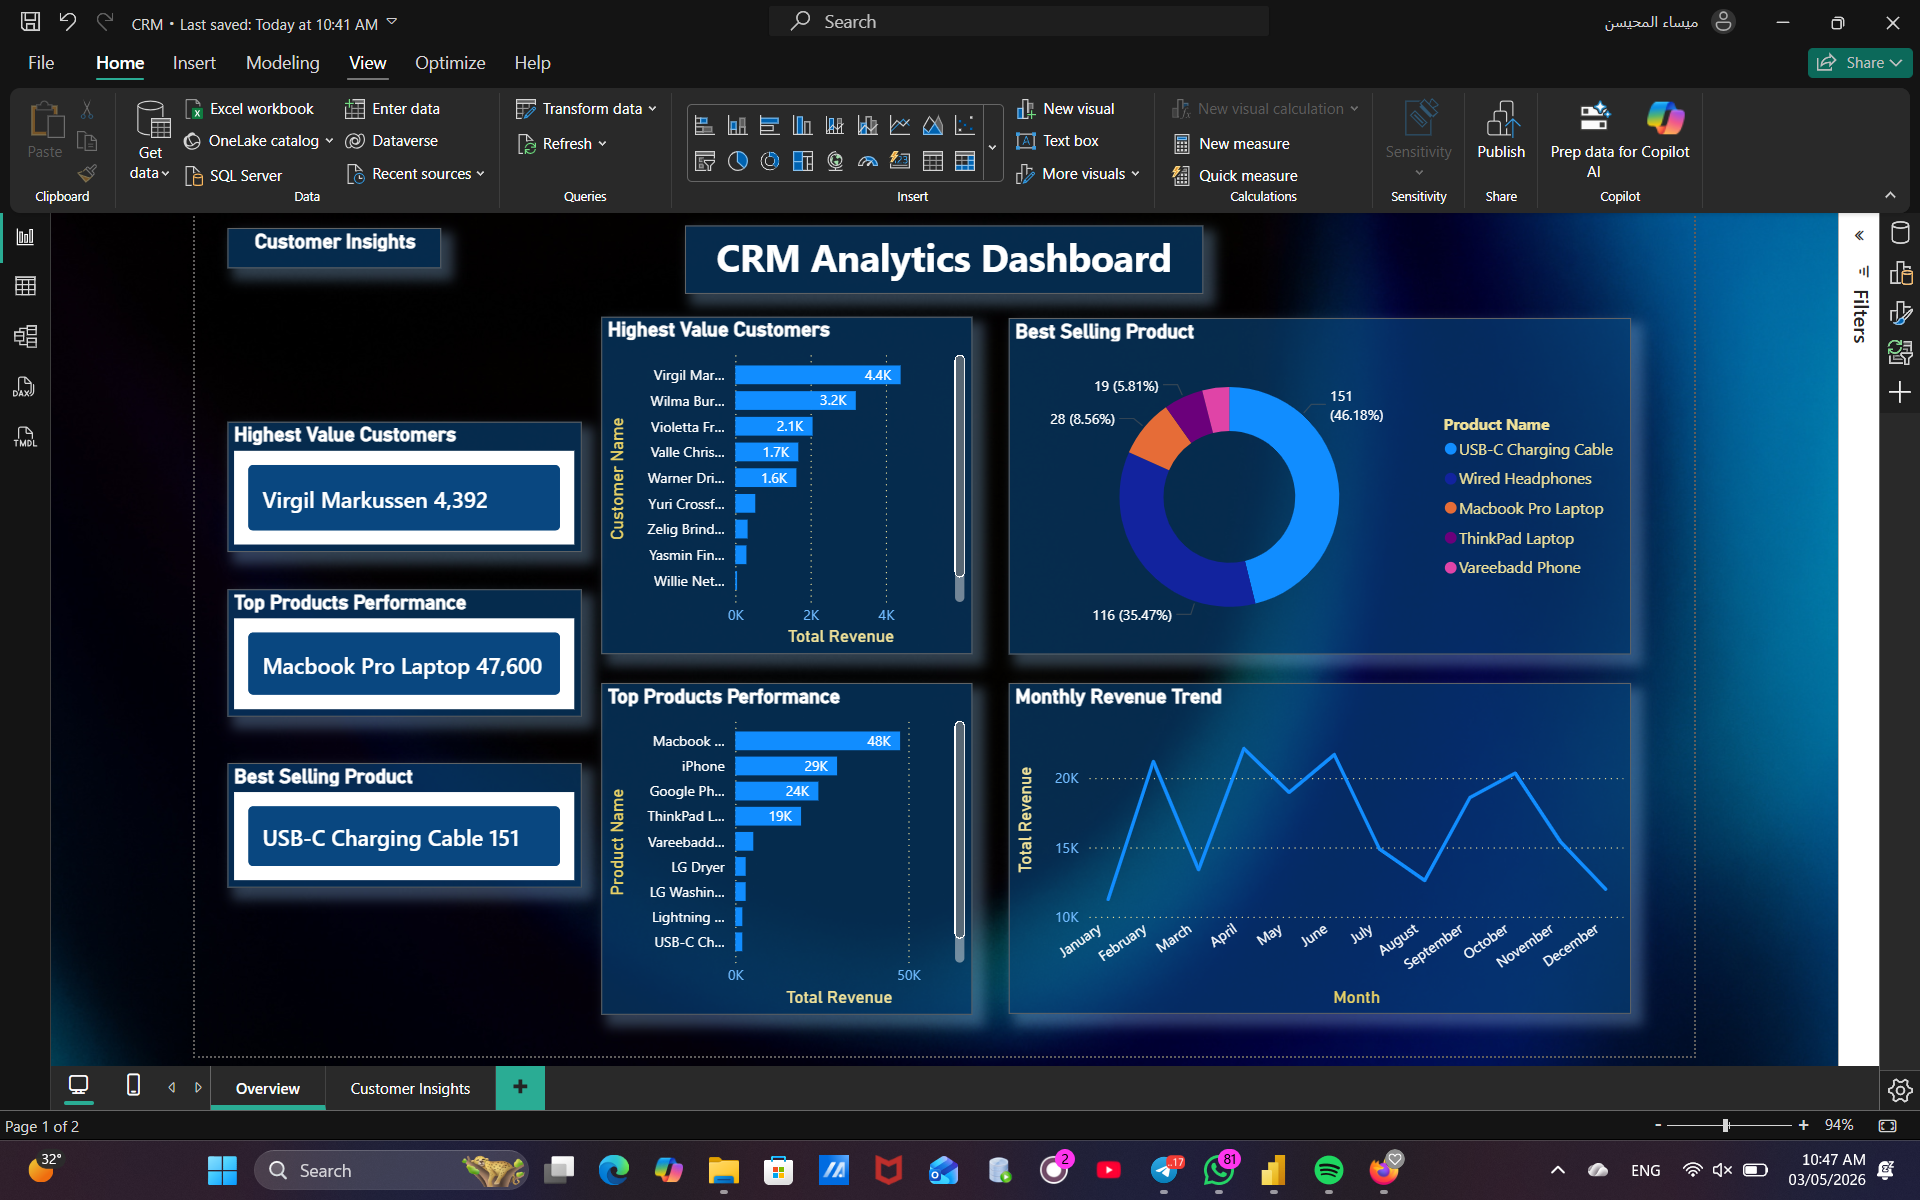

The page's visual inventory and layout, read from the dashboard file:
{"tool":"powerbi","page":{"name":"Overview","canvas":[1280,720],"ordinal":0},"visuals":[{"type":"clusteredBarChart","title":"Highest Value Customers","fields":{"Category":["Customer.FullName"],"Y":["Deal.Total Revenue"]},"box":[346.4,88.7,316.4,287.6],"z":0},{"type":"clusteredBarChart","title":"Top Products Performance","fields":{"Category":["Product.Pname"],"Y":["Deal.Total Revenue"]},"box":[346.4,401.5,316.4,282.8],"z":1000},{"type":"donutChart","title":"Best Selling Product","fields":{"Category":["Product.Pname"],"Y":["Deal.Total Deals"]},"box":[694.6,89.6,531.4,287],"z":2000},{"type":"lineChart","title":"Monthly Revenue Trend","fields":{"Category":["Deal.DealDate.Variation.Date Hierarchy.Month"],"Y":["Deal.Total Revenue"]},"box":[694.6,401.2,531.4,282.8],"z":3000},{"type":"actionButton","title":"Customer Insights","box":[27.7,12.8,182.5,34.1],"z":4000},{"type":"textbox","box":[418.3,10.7,442.8,58.7],"z":6000},{"type":"cardVisual","title":"Highest Value Customers","fields":{"Data":["Customer.Top Customer Display"]},"box":[27.6,178.6,302,111.5],"z":9000},{"type":"cardVisual","title":"Top Products Performance","fields":{"Data":["Product.Top Product Display"]},"box":[27.6,321.2,302,109.1],"z":9001},{"type":"cardVisual","title":"Best Selling Product","fields":{"Data":["Deal.Best Selling Product Display"]},"box":[27.6,469.8,302,106.7],"z":9002}]}

Visuals, with their boxes on the page's 1280x720 design canvas (x1, y1, x2, y2). These are canvas units, not pixel positions in the 1920x1200 screenshot, which may show the page scaled, cropped or inside an application window:
"Highest Value Customers" clusteredBarChart: [left=346, top=89, right=663, bottom=376]
"Top Products Performance" clusteredBarChart: [left=346, top=402, right=663, bottom=684]
"Best Selling Product" donutChart: [left=695, top=90, right=1226, bottom=377]
"Monthly Revenue Trend" lineChart: [left=695, top=401, right=1226, bottom=684]
"Customer Insights" actionButton: [left=28, top=13, right=210, bottom=47]
textbox: [left=418, top=11, right=861, bottom=69]
"Highest Value Customers" cardVisual: [left=28, top=179, right=330, bottom=290]
"Top Products Performance" cardVisual: [left=28, top=321, right=330, bottom=430]
"Best Selling Product" cardVisual: [left=28, top=470, right=330, bottom=576]
